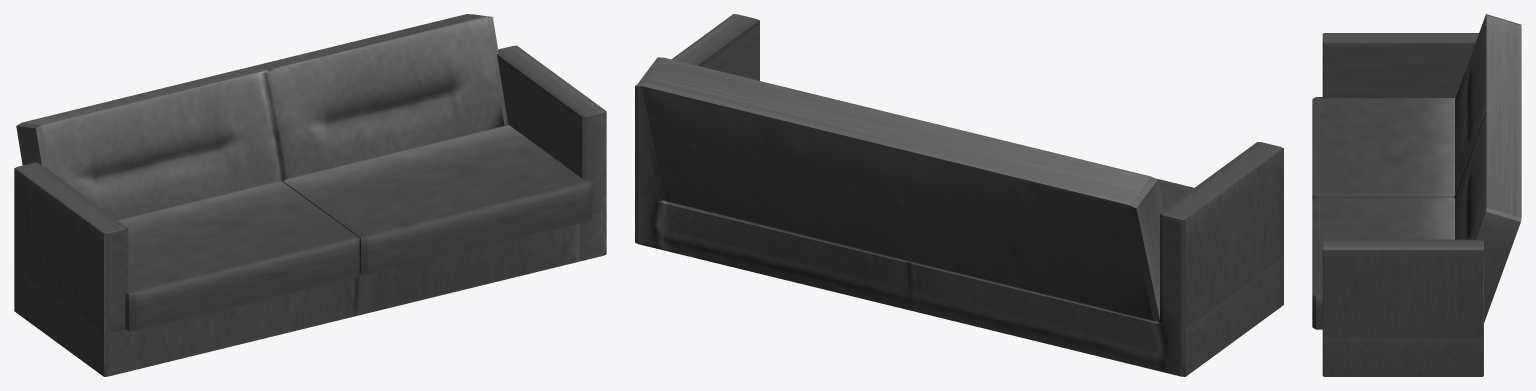
File: couch.fbx
3 renders of one model, left to right at view 1: azimuth 30°, elevation 25°; view 2: azimuth 150°, elevation 25°; view 3: azimuth 270°, elevation 25°, orthographic. The views are drawn at different scales.
Parts seen in each view (by area): view 1: Cube.003, Cube, Cube.001, Cube.002; view 2: Cube.003, Cube, Cube.002; view 3: Cube, Cube.003, Cube.002, Cube.001.
Boxes of the visible parts, x1,y1,x2,y2 form: Cube.003: (16,14,508,219); Cube: (14,45,606,376); Cube.001: (283,125,591,274); Cube.002: (118,181,359,331); Cube.003: (636,57,1164,321); Cube: (635,14,1283,376); Cube.002: (1156,178,1193,209); Cube: (1322,33,1483,376); Cube.003: (1454,14,1521,322); Cube.002: (1312,97,1455,199); Cube.001: (1312,197,1454,329).
Bounding box in the file's own units: 637 × 215 × 259.
